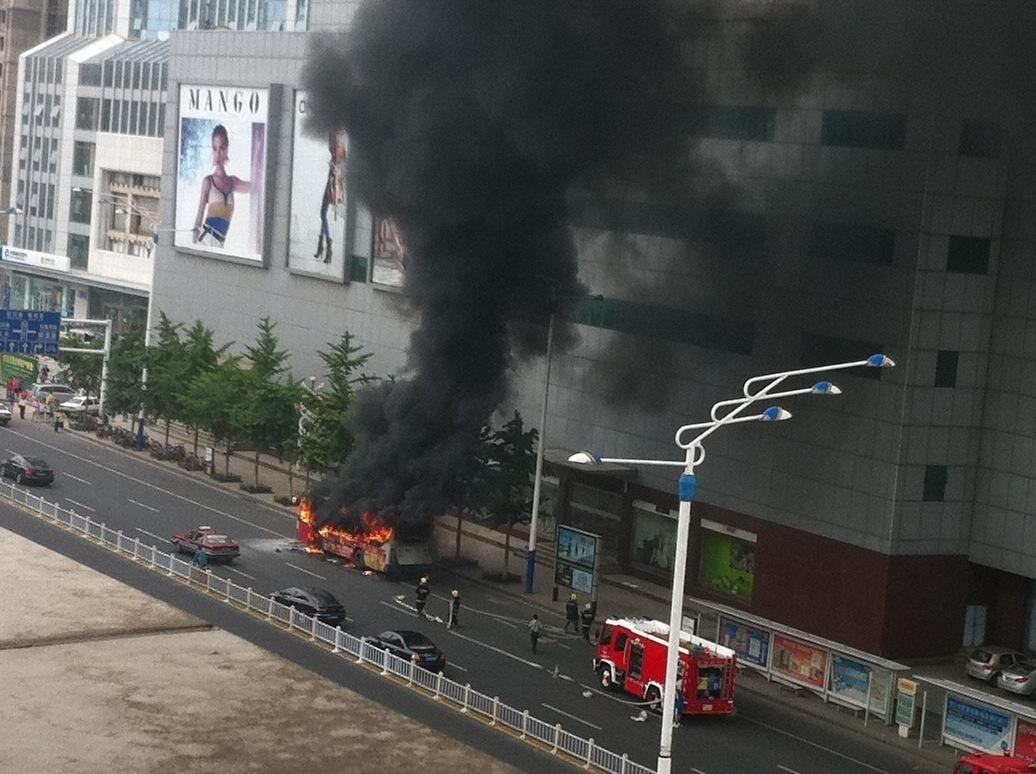fire: (292, 494, 398, 573)
